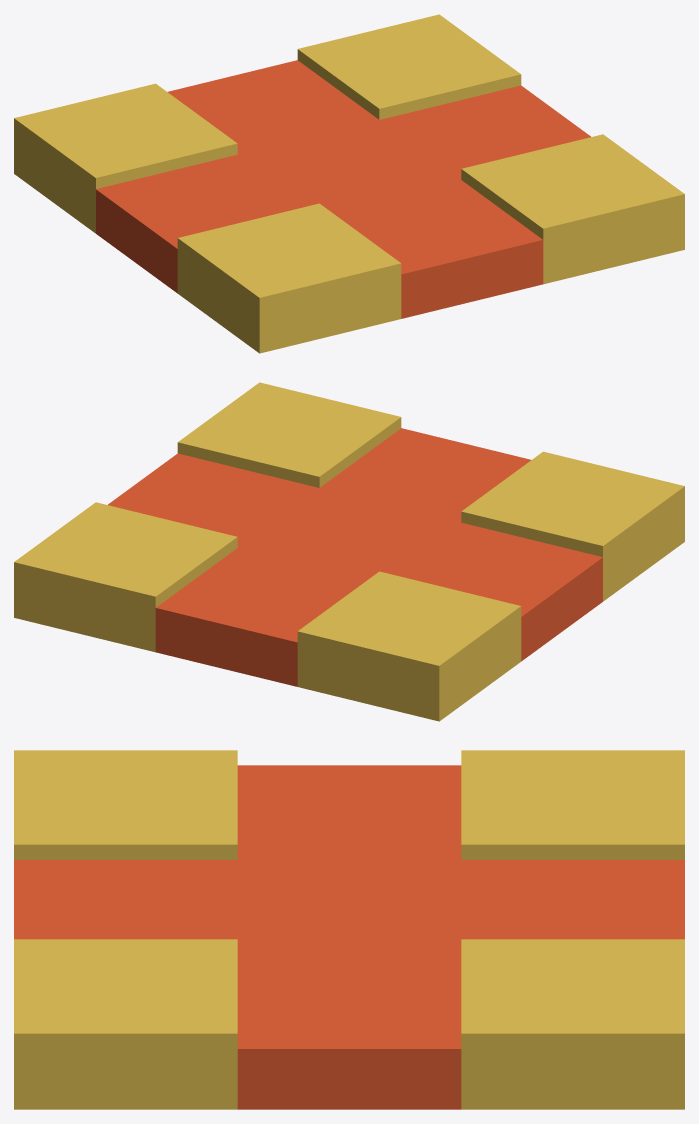
File: Footpath Intersection.fbx
The picture shows the model from 3 angles, top to bottom: view 1: azimuth 30°, elevation 25°; view 2: azimuth 150°, elevation 25°; view 3: azimuth 270°, elevation 25°; orthographic projection. The views are drawn at different scales.
Visible parts, largest first — view 1: Footpath Intersection; view 2: Footpath Intersection; view 3: Footpath Intersection.
Part boxes in pixels (x1=…): Footpath Intersection: x1=14, y1=14, x2=684, y2=353; Footpath Intersection: x1=14, y1=382, x2=684, y2=721; Footpath Intersection: x1=14, y1=750, x2=684, y2=1109.
Size of the model in its own units: 200 by 25 by 200.
